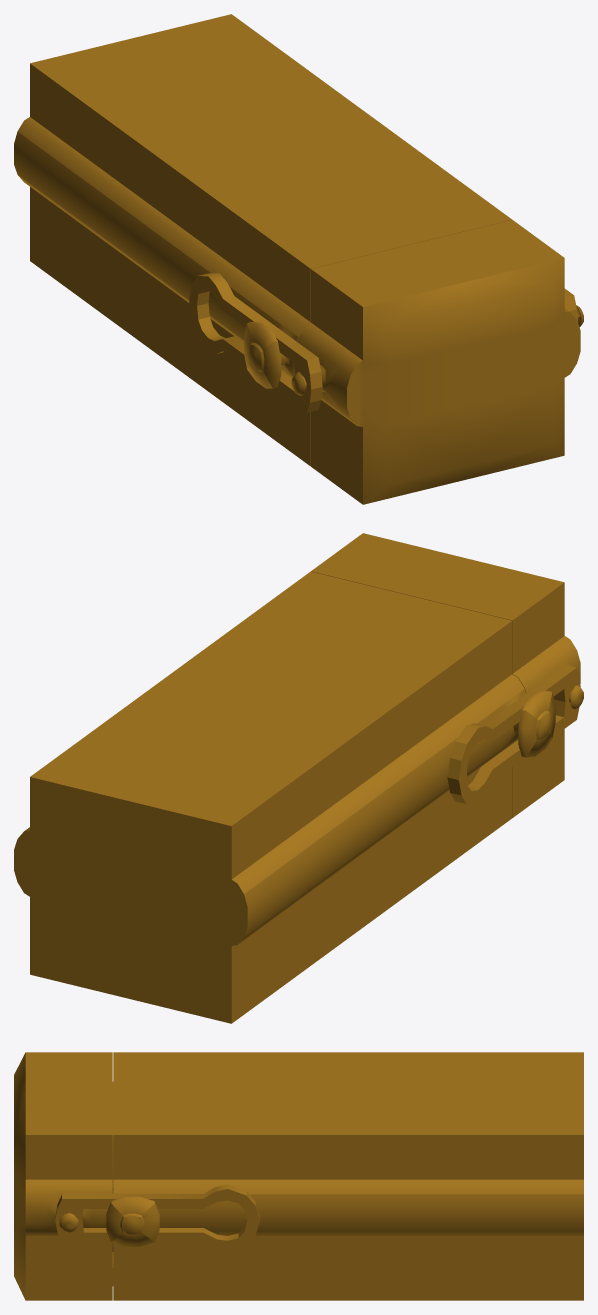
The model's file is pudło go gotowych trotów.fbx.
3 views of the same model, one above another, from view 1: azimuth 30°, elevation 25°; view 2: azimuth 150°, elevation 25°; view 3: azimuth 270°, elevation 25° (orthographic). The views are drawn at different scales.
Parts seen in each view (by area): view 1: Box015, pokrywa do pudła, Box017; view 2: Box015, pokrywa do pudła, Box017; view 3: Box015, pokrywa do pudła, Box017.
Part boxes in pixels (<box>): Box015: <box>14,14,512,466</box>; pokrywa do pudła: <box>291,220,583,504</box>; Box017: <box>189,273,577,412</box>; Box015: <box>14,571,555,1023</box>; pokrywa do pudła: <box>311,533,583,817</box>; Box017: <box>447,665,580,804</box>; Box015: <box>106,1052,583,1300</box>; pokrywa do pudła: <box>14,1052,112,1300</box>; Box017: <box>55,1184,259,1252</box>.
Size of the model in its own units: 63.43 by 40.73 by 127.
